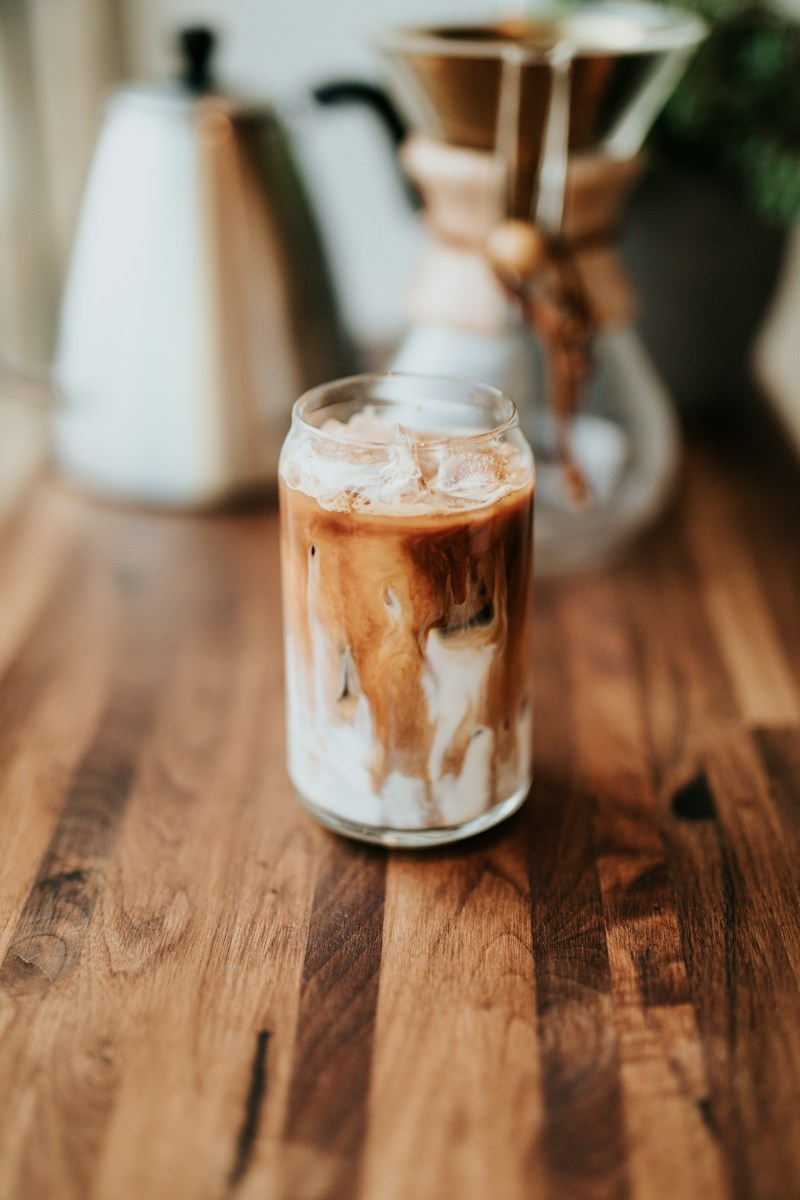cup: (277, 371, 537, 848)
